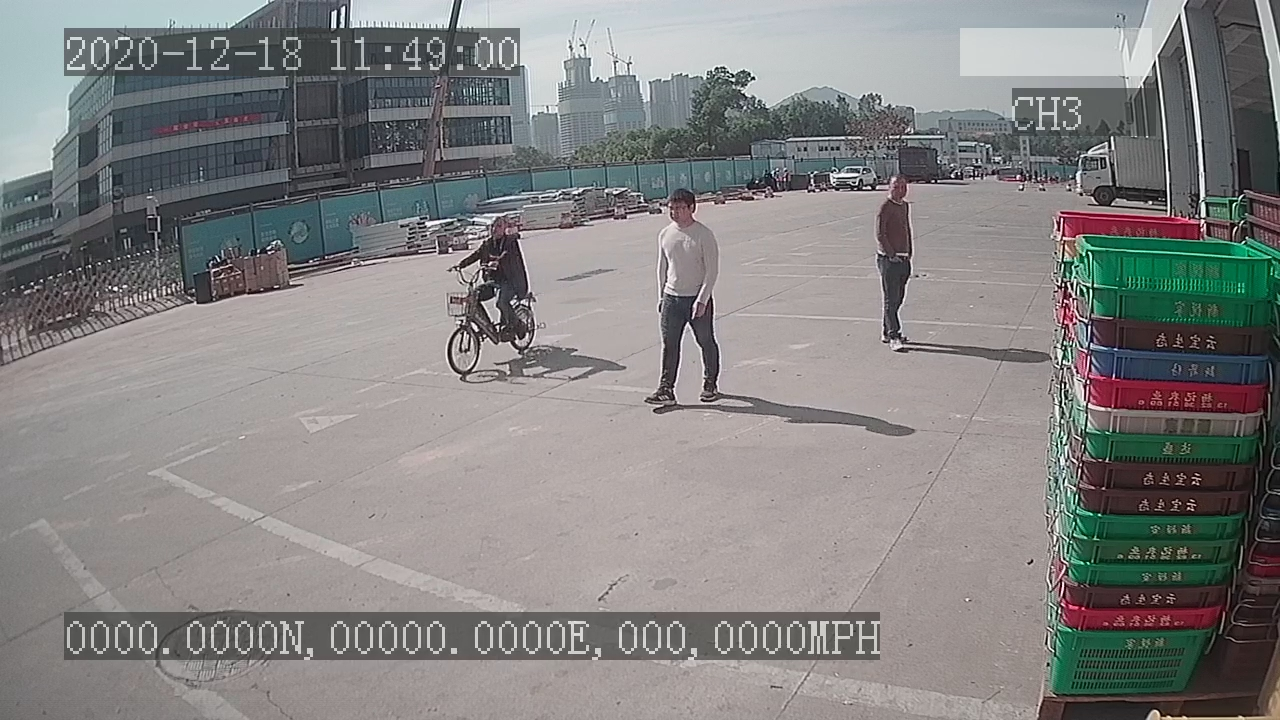person: (640, 188, 724, 413), (872, 170, 917, 354)
